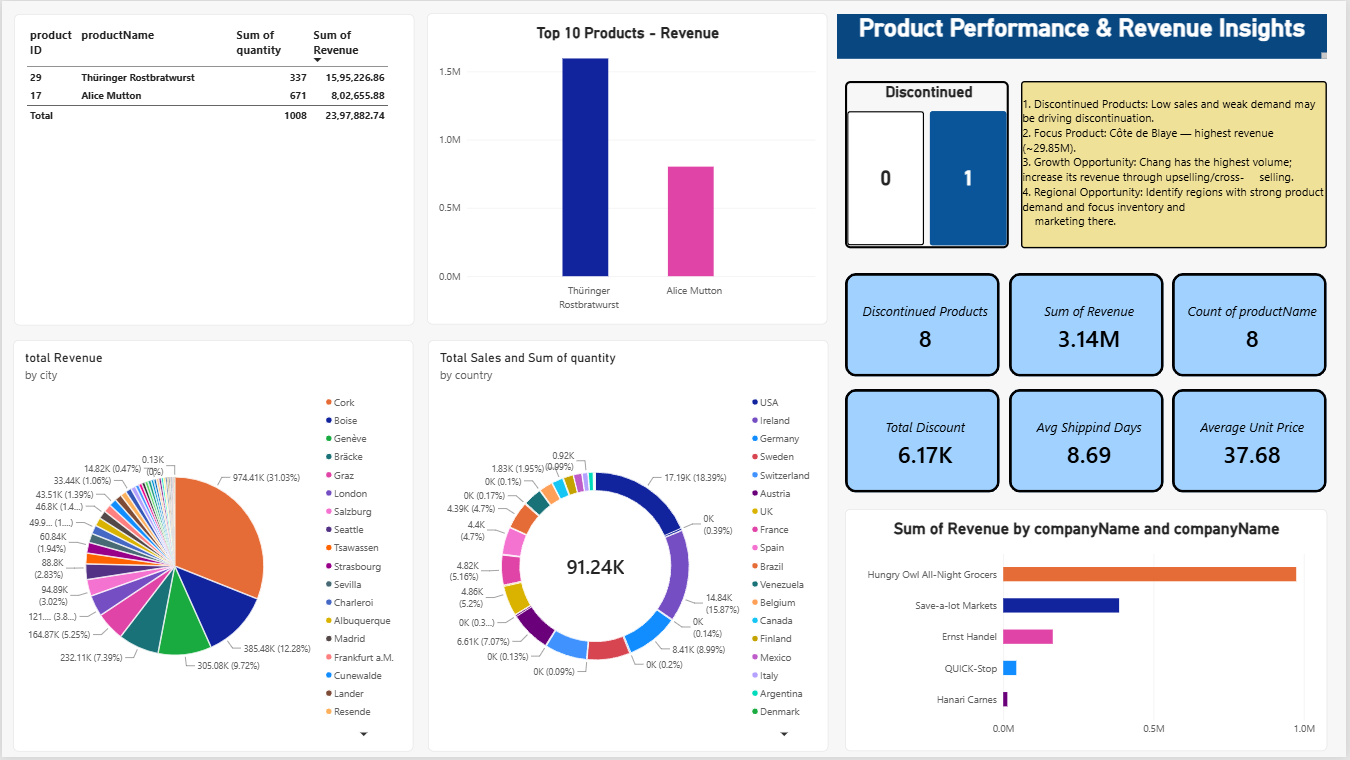

The dashboard page shown, as its layout file describes it:
{"tool":"powerbi","page":{"name":"Product perform in each region","canvas":[1920,1080],"ordinal":1},"visuals":[{"type":"tableEx","fields":{"Values":["Fact_order_details.productID","Dim_products.productName","Sum(Fact_order_details.quantity)","Sum(Fact_order_details.Revenue)"]},"box":[17.1,18.6,571.9,445],"z":0},{"type":"columnChart","title":"Top 10 Products - Revenue","fields":{"Category":["Dim_products.productName"],"Series":["Dim_products.productName"],"Y":["Sum(Fact_order_details.Revenue)"]},"box":[607.8,16.7,572,445],"z":1000},{"type":"pieChart","fields":{"Category":["Dim_customers.city"],"Y":["Fact_order_details.total Revenue"]},"box":[15.6,484.4,572.2,587.8],"z":2000},{"type":"donutChart","fields":{"Category":["Dim_customers.country"],"Y":["Fact_order_details.Total Sales","Sum(Fact_order_details.quantity)"]},"box":[608,484,572,588],"z":3000},{"type":"barChart","fields":{"Category":["Dim_customers.companyName"],"Series":["Dim_customers.companyName"],"Y":["Sum(Fact_order_details.Revenue)"]},"box":[1204.3,725.7,688.6,345.7],"z":4000},{"type":"advancedSlicerVisual","title":"Discontinued","fields":{"Values":["Dim_products.discontinued"]},"box":[1204.3,114.3,234.3,238.6],"z":5000},{"type":"textbox","box":[1455.7,114.3,437.1,238.6],"z":6000},{"type":"cardVisual","fields":{"Data":["Sum(Fact_order_details.Revenue)"]},"box":[1438.6,388.6,221.4,148.6],"z":7000},{"type":"cardVisual","fields":{"Data":["Fact_order_details.Discontinued Products"]},"box":[1204.3,388.6,221.4,148.6],"z":8000},{"type":"cardVisual","fields":{"Data":["Count(Dim_products.productName)"]},"box":[1671.4,388.6,221.4,148.6],"z":9000},{"type":"cardVisual","fields":{"Data":["Fact_order_details.Total Discount"]},"box":[1204.3,554.3,221.4,148.6],"z":9001},{"type":"cardVisual","fields":{"Data":["Fact_order_details.Avg Shippind Days"]},"box":[1438.6,554.3,221.4,148.6],"z":9002},{"type":"cardVisual","fields":{"Data":["Fact_order_details.Average Unit Price"]},"box":[1671.4,554.3,221.4,148.6],"z":9003},{"type":"textbox","title":"Product Performance & Revenue Insights","box":[1193.1,18.6,700,64.3],"z":9004}]}

Visuals, with their boxes in screenshot pixels (x1, y1, x2, y2), scaled from the page's 1920x1080 canvas onto the 1350x760 screenshot:
tableEx - Fact_order_details.productID x Dim_products.productName: detection(12, 13, 414, 326)
"Top 10 Products - Revenue" columnChart: detection(427, 12, 830, 325)
pieChart - Dim_customers.city x Fact_order_details.total Revenue: detection(11, 341, 413, 755)
donutChart - Dim_customers.country x Fact_order_details.Total Sales: detection(428, 341, 830, 754)
barChart - Dim_customers.companyName x Dim_customers.companyName: detection(847, 511, 1331, 754)
"Discontinued" advancedSlicerVisual: detection(847, 80, 1012, 248)
textbox: detection(1024, 80, 1331, 248)
cardVisual - Sum(Fact_order_details.Revenue): detection(1012, 273, 1167, 378)
cardVisual - Fact_order_details.Discontinued Products: detection(847, 273, 1002, 378)
cardVisual - Count(Dim_products.productName): detection(1175, 273, 1331, 378)
cardVisual - Fact_order_details.Total Discount: detection(847, 390, 1002, 495)
cardVisual - Fact_order_details.Avg Shippind Days: detection(1012, 390, 1167, 495)
cardVisual - Fact_order_details.Average Unit Price: detection(1175, 390, 1331, 495)
"Product Performance & Revenue Insights" textbox: detection(839, 13, 1331, 58)
